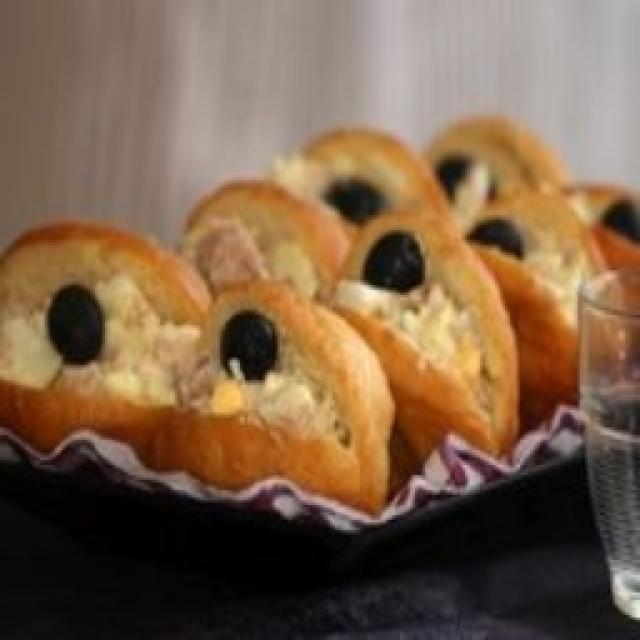Frecasse: (0, 120, 622, 535)
